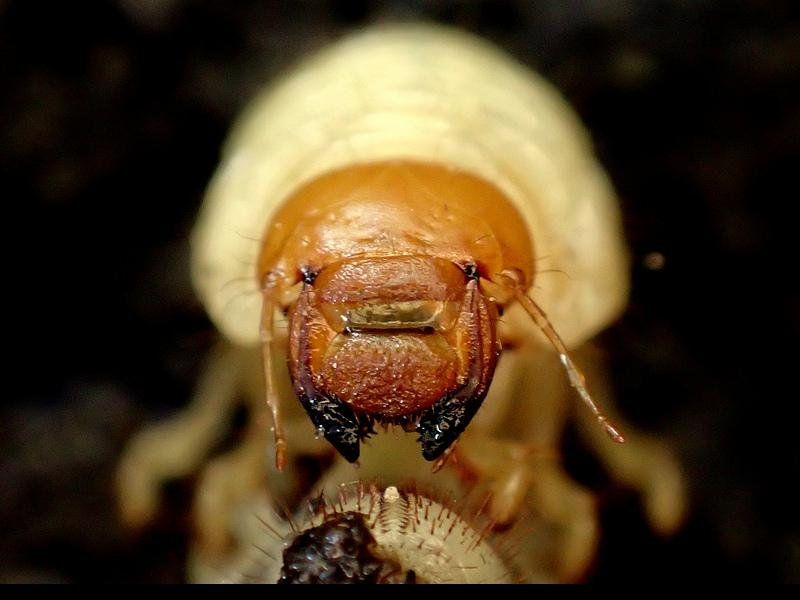grub: (185, 32, 674, 489)
